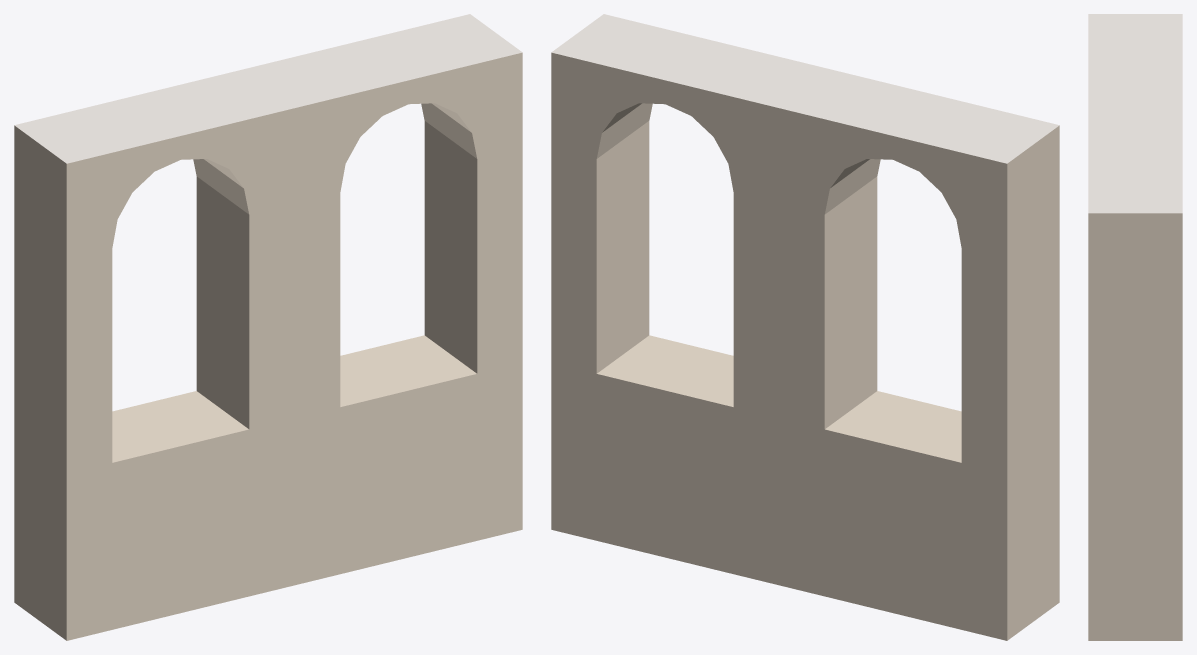
The model's file is Wall_Straight_Windows.glb.
3 renders of one model, left to right at view 1: azimuth 30°, elevation 25°; view 2: azimuth 150°, elevation 25°; view 3: azimuth 270°, elevation 25°, orthographic. The views are drawn at different scales.
Parts seen in each view (by area): view 1: Wall_Straight_Windows; view 2: Wall_Straight_Windows; view 3: Wall_Straight_Windows.
Part boxes in pixels (bbox=[...]): Wall_Straight_Windows: bbox=[14, 14, 522, 640]; Wall_Straight_Windows: bbox=[551, 14, 1059, 640]; Wall_Straight_Windows: bbox=[1088, 14, 1182, 640].
Bounding box in the file's own units: 1 × 1 × 0.2.
